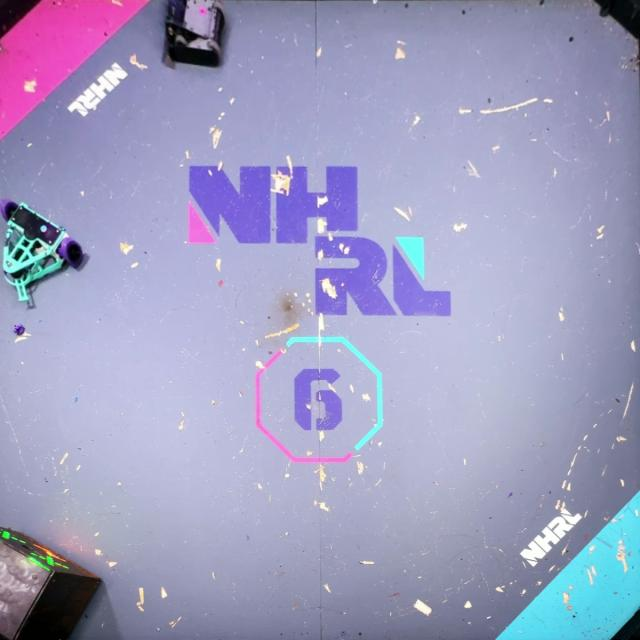housebot: (0, 524, 104, 640)
robot: (0, 198, 85, 304), (160, 0, 226, 67)
